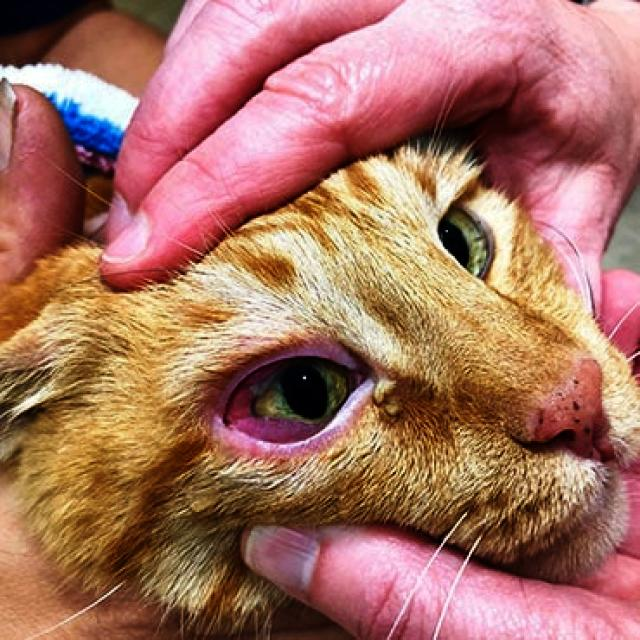eye_infection: (214, 346, 375, 455)
